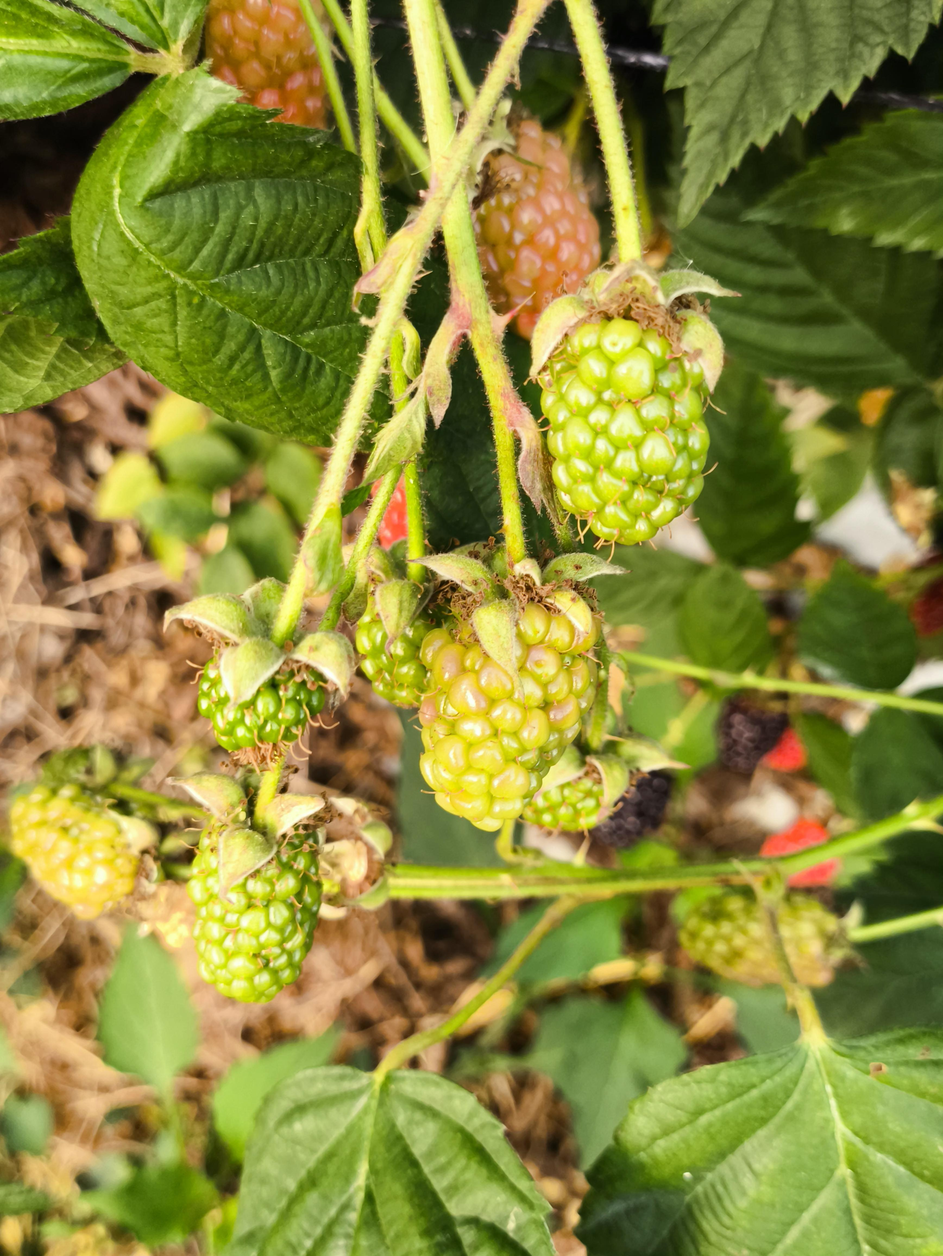verde: (420, 589, 601, 831), (188, 835, 320, 1002), (10, 784, 138, 918), (197, 660, 325, 751), (356, 594, 435, 708)
